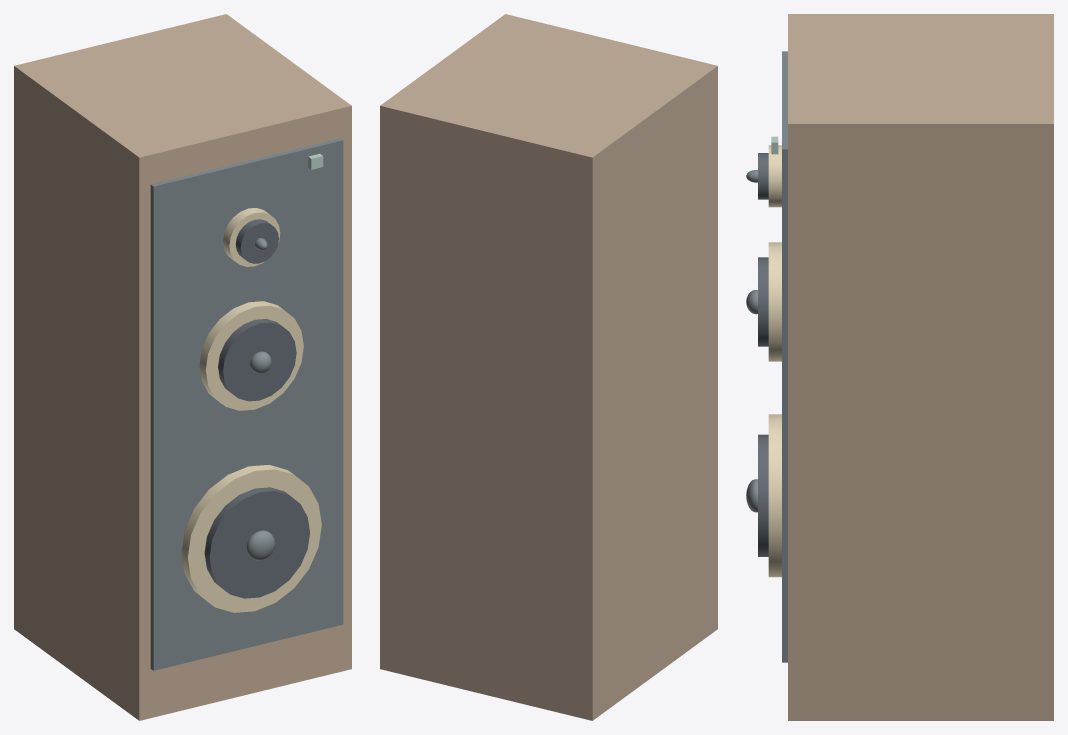
File: retro_speaker_tower.glb
3 views of the same model, side by side, from view 1: azimuth 30°, elevation 25°; view 2: azimuth 150°, elevation 25°; view 3: azimuth 270°, elevation 25° (orthographic). The views are drawn at different scales.
Parts seen in each view (by area): view 1: SpeakerCabinet, GrillePlate, SoftSpeakerCone_0, AluminumDriverRim_0, SoftSpeakerCone_1, AluminumDriverRim_1, SoftSpeakerCone_2, AluminumDriverRim_2, DriverDustCap_0; view 2: SpeakerCabinet; view 3: SpeakerCabinet, GrillePlate, AluminumDriverRim_0, AluminumDriverRim_1, SoftSpeakerCone_0, SoftSpeakerCone_1, AluminumDriverRim_2, SoftSpeakerCone_2.
Boxes of the visible parts, x1,y1,x2,y2 form: SpeakerCabinet: (14, 14, 351, 720); GrillePlate: (150, 138, 343, 670); SoftSpeakerCone_0: (204, 487, 309, 598); AluminumDriverRim_0: (181, 465, 321, 612); SoftSpeakerCone_1: (218, 319, 296, 401); AluminumDriverRim_1: (199, 301, 303, 410); SoftSpeakerCone_2: (235, 219, 278, 263); AluminumDriverRim_2: (223, 208, 280, 266); DriverDustCap_0: (246, 530, 275, 560); SpeakerCabinet: (380, 14, 717, 720); SpeakerCabinet: (788, 14, 1053, 720); GrillePlate: (782, 51, 787, 662); AluminumDriverRim_0: (768, 414, 781, 577); AluminumDriverRim_1: (768, 242, 781, 361); SoftSpeakerCone_0: (758, 434, 768, 556); SoftSpeakerCone_1: (758, 257, 768, 346); AluminumDriverRim_2: (768, 145, 781, 207); SoftSpeakerCone_2: (758, 153, 768, 199).
Bounding box in the file's own units: 0.45 × 1.15 × 0.5325.
